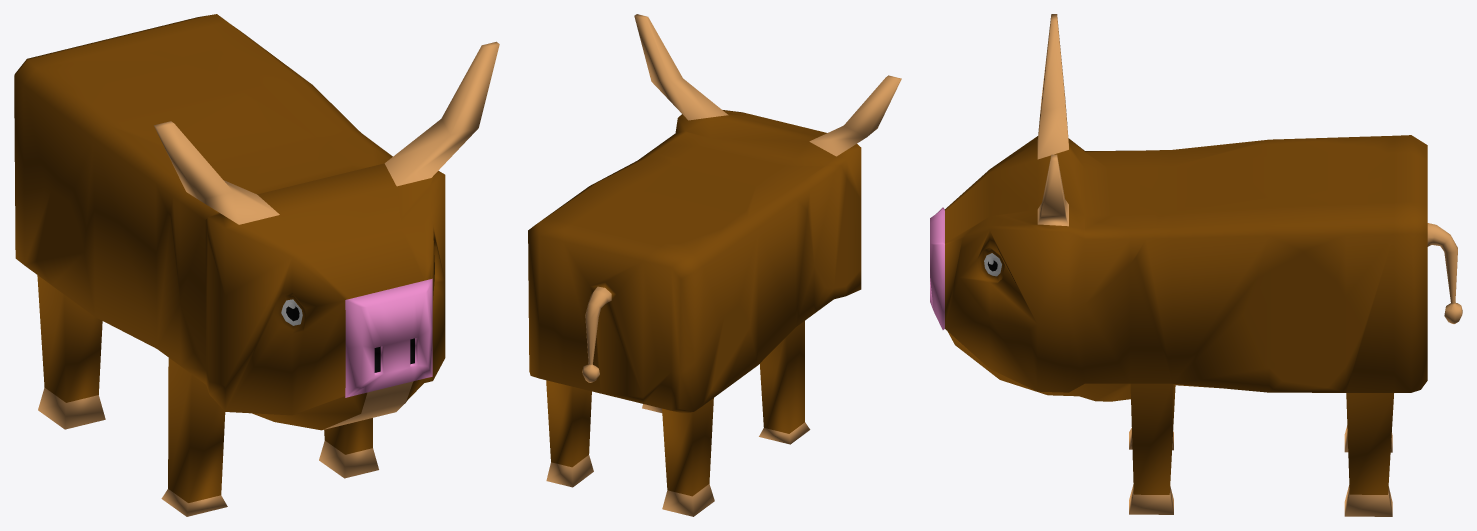
File: bull.fbx
3 views of the same model, side by side, from view 1: azimuth 30°, elevation 25°; view 2: azimuth 150°, elevation 25°; view 3: azimuth 270°, elevation 25° (orthographic). The views are drawn at different scales.
Visible parts, largest first — view 1: Cube; view 2: Cube; view 3: Cube.
Boxes of the visible parts, <box> form: Cube: <box>14,14,499,516</box>; Cube: <box>528,14,901,516</box>; Cube: <box>930,14,1462,516</box>.
Size of the model in its own units: 447 by 552 by 685.
